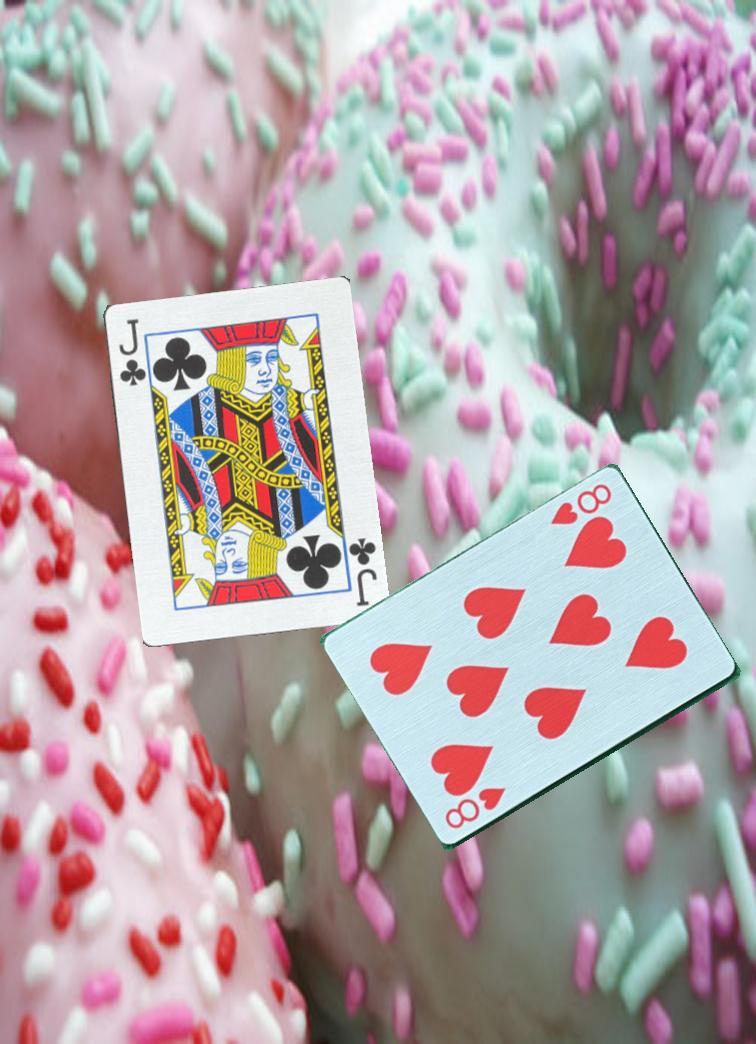8h: (441, 781, 515, 832), (546, 479, 616, 528)
jc: (344, 533, 379, 609), (114, 314, 147, 389)
